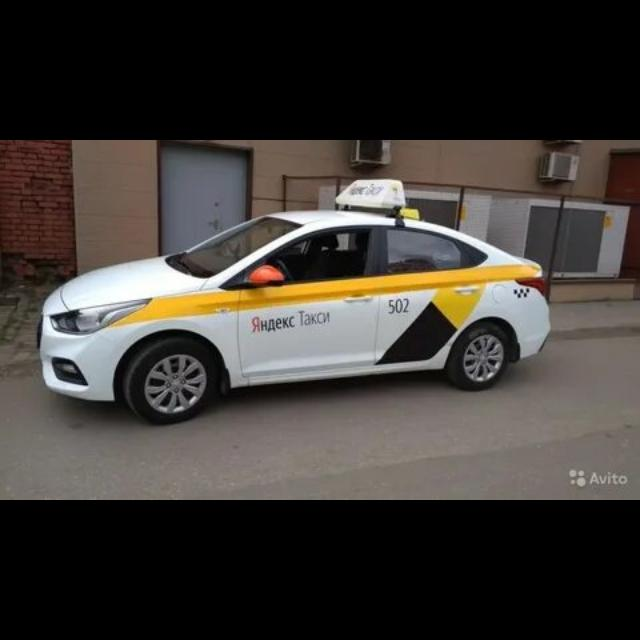taxi: (37, 179, 551, 425)
